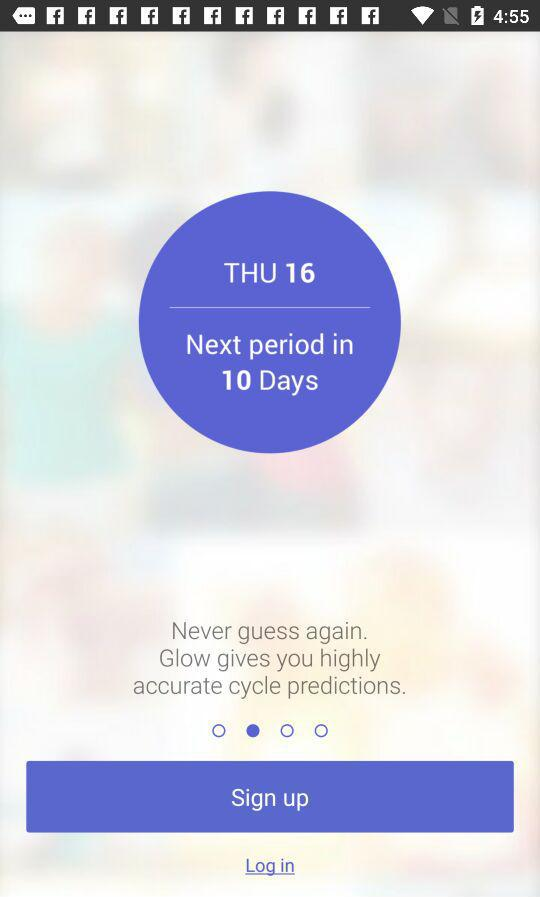Image: (138, 191, 403, 455)
PageIndicator: (211, 723, 330, 739)
Text: (133, 620, 407, 699), (245, 857, 297, 878)
TextButton: (26, 761, 514, 833)
UpperTaskBar: (1, 1, 540, 33)
